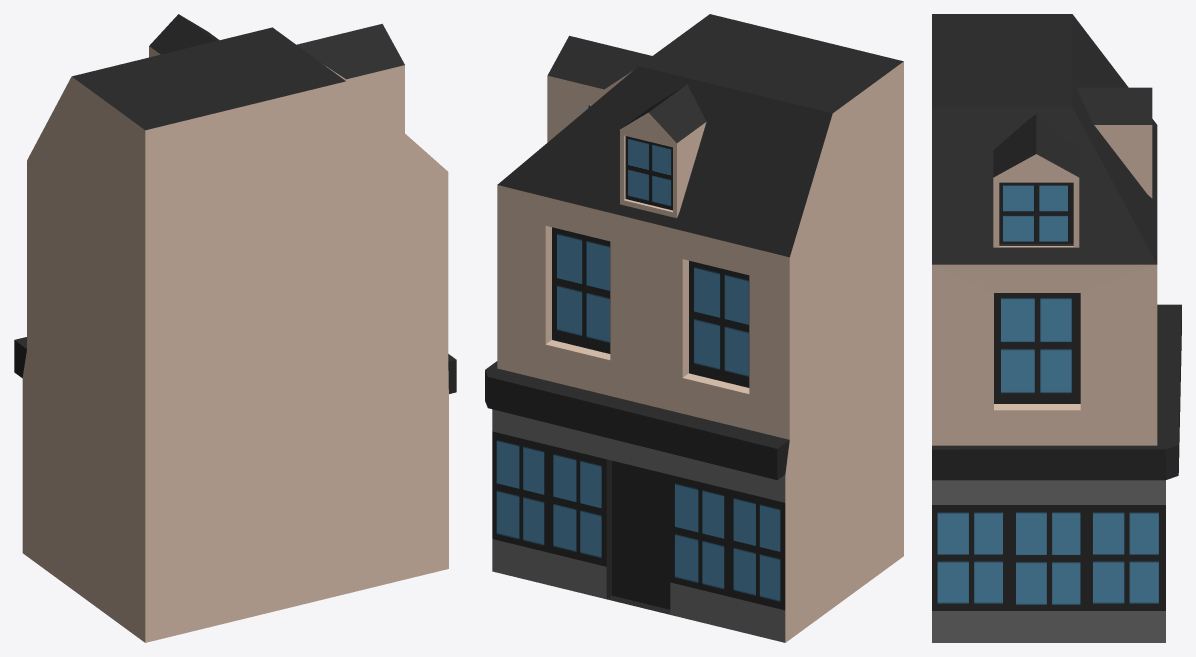
File: ShopBeige.obj
The picture shows the model from 3 angles, left to right: view 1: azimuth 30°, elevation 25°; view 2: azimuth 150°, elevation 25°; view 3: azimuth 270°, elevation 25°; orthographic projection. The views are drawn at different scales.
Parts seen in each view (by area): view 1: SklepikBezowy; view 2: SklepikBezowy; view 3: SklepikBezowy.
Part boxes in pixels (x1,y1,x2,y2): SklepikBezowy: (14, 14, 456, 642); SklepikBezowy: (485, 14, 903, 642); SklepikBezowy: (932, 14, 1181, 642).
Size of the model in its own units: 5.13 by 8.07 by 3.74.
